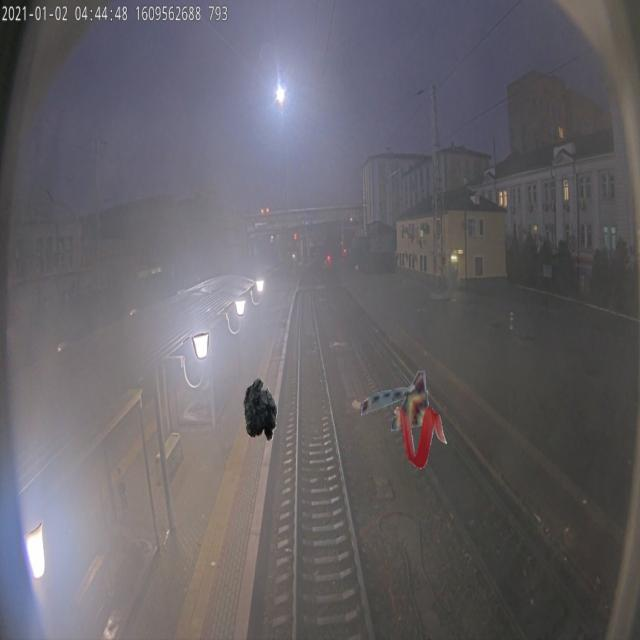floating object: (361, 368, 434, 432), (394, 404, 448, 468)
plastic bag: (243, 378, 278, 442)
